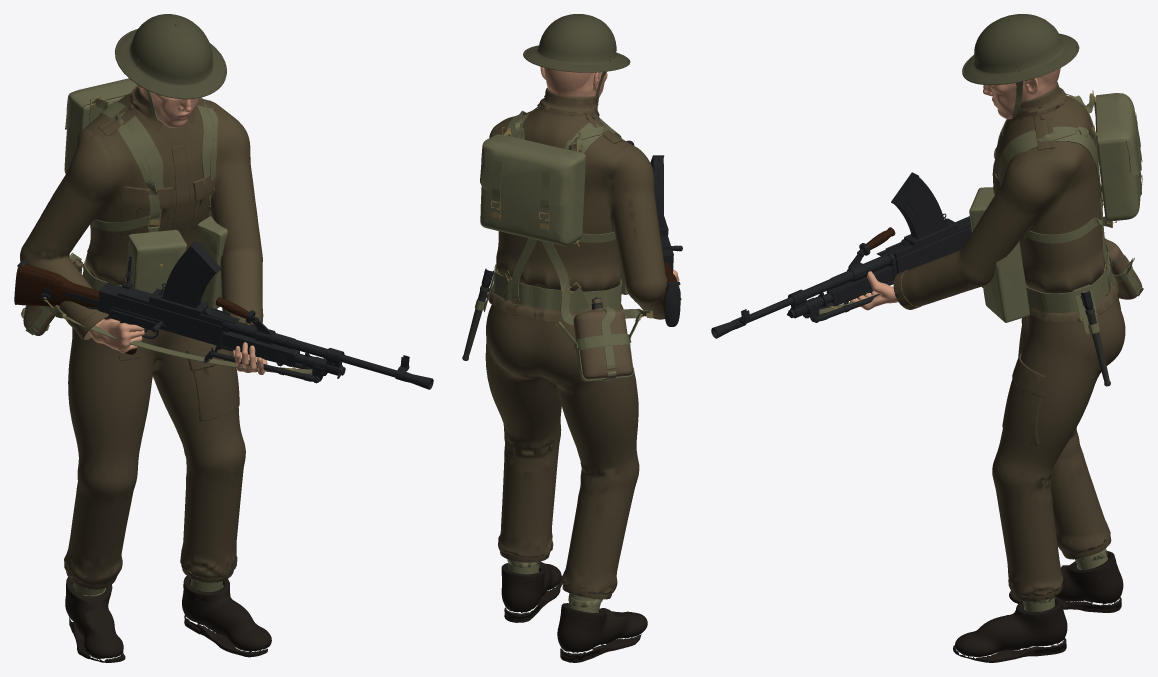
The model's file is bren.glb.
3 renders of one model, left to right at view 1: azimuth 30°, elevation 25°; view 2: azimuth 150°, elevation 25°; view 3: azimuth 270°, elevation 25°, orthographic. The views are drawn at different scales.
Parts seen in each view (by area): view 1: trousers, tunic, bren-parts, shell, boot-l, pocket-map-l, bren-magazine, brace (×2), boot-r, lid, l-strap, pocket-chest-r (+12 smaller); view 2: trousers, tunic, flap, haversack, shell, felt, boot-r, brace (×2), belt, carrier, boot-l, head (+13 smaller); view 3: trousers, tunic, bren-parts, shell, boot-l, haversack, pocket-map-l, pouch, flap, bren-magazine, boot-r, l-strap (+11 smaller).
Boxes of the visible parts, x1,y1,x2,y2 form: trousers: (64,272,245,584); tunic: (20,92,263,331); bren-parts: (14,256,433,389); shell: (117,14,224,96); boot-l: (182,583,271,651); pocket-map-l: (186,343,239,421); bren-magazine: (162,240,221,308); brace (×2): (82,102,216,275); boot-r: (65,582,123,659); lid: (128,229,186,272); l-strap: (90,98,159,231); pocket-chest-r: (118,186,173,237); trousers: (485,305,639,594); tunic: (489,107,667,317); flap: (480,134,585,206); haversack: (480,157,585,246); shell: (525,14,628,70); felt: (573,308,632,379); boot-r: (557,611,647,652); brace (×2): (506,111,651,325); belt: (493,264,621,312); carrier: (557,308,641,381); boot-l: (501,562,561,612); head: (540,67,607,96); trousers: (992,270,1125,596); tunic: (901,95,1112,306); bren-parts: (711,213,971,338); shell: (964,14,1076,83); boot-l: (955,609,1067,656); haversack: (1095,102,1140,221); pocket-map-l: (1002,352,1046,445); pouch: (983,241,1029,322); flap: (1096,93,1141,176); bren-magazine: (891,172,946,239); boot-r: (1055,563,1123,604); l-strap: (1000,126,1108,243).
Size of the model in its own units: 0.7056 by 1.77 by 1.14.
